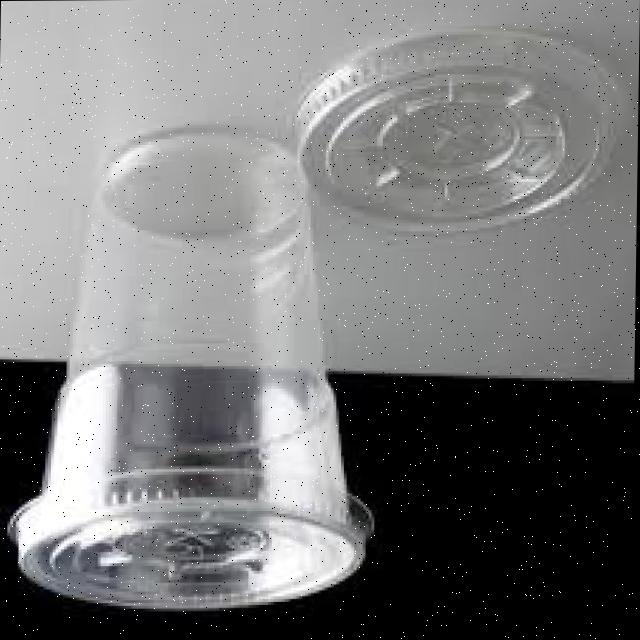cup: (0, 99, 400, 632)
